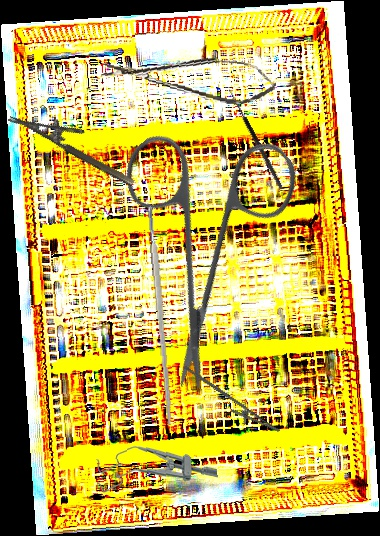Hook Surgical: (222, 88, 284, 192)
Iris Scissors: (46, 77, 366, 396)
Micro Scissor: (99, 43, 279, 110)
Needle Holder: (7, 95, 145, 189), (173, 365, 287, 441)
Scalpel Handle: (146, 206, 175, 425)
Speculum: (94, 441, 219, 494)
